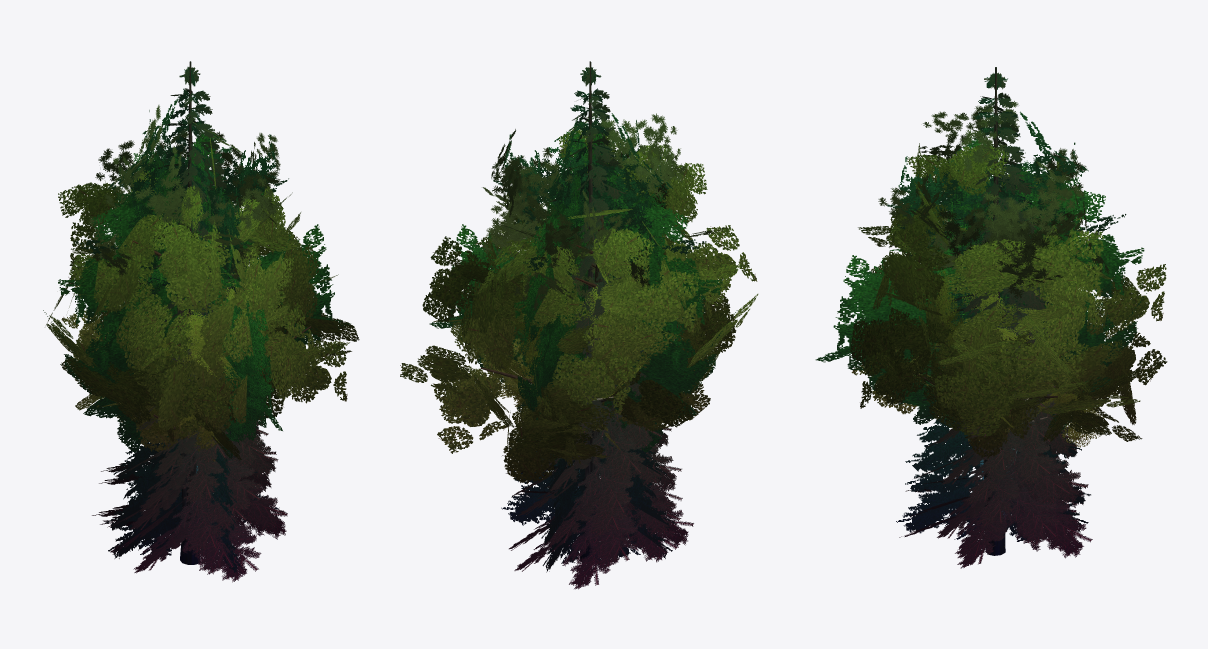
Rendered from Pflanzen.glb.
3 views of the same model, side by side, from view 1: azimuth 30°, elevation 25°; view 2: azimuth 150°, elevation 25°; view 3: azimuth 270°, elevation 25° (orthographic). The views are drawn at different scales.
Parts seen in each view (by area): view 1: Linde, Eiche, Fichte, Eiche_Fern, Kiefer, Fichte_Fern, Kiefer_Fern, Linde_Fern, Birke, Birke_Fern; view 2: Eiche, Linde, Fichte, Kiefer, Eiche_Fern, Fichte_Fern, Kiefer_Fern, Linde_Fern, Birke; view 3: Eiche, Fichte, Linde, Kiefer, Eiche_Fern, Fichte_Fern, Kiefer_Fern, Linde_Fern, Birke.
Boxes of the visible parts, <box> form: Linde: <box>58,138,331,452</box>; Eiche: <box>46,212,359,564</box>; Fichte: <box>92,62,287,582</box>; Eiche_Fern: <box>43,191,350,553</box>; Kiefer: <box>88,105,292,516</box>; Fichte_Fern: <box>105,61,279,572</box>; Kiefer_Fern: <box>74,98,288,509</box>; Linde_Fern: <box>75,132,309,458</box>; Birke: <box>90,272,241,444</box>; Birke_Fern: <box>119,260,246,472</box>; Eiche: <box>400,215,758,562</box>; Linde: <box>449,126,736,553</box>; Fichte: <box>502,62,693,589</box>; Kiefer: <box>482,112,726,514</box>; Eiche_Fern: <box>429,215,737,553</box>; Fichte_Fern: <box>501,61,674,572</box>; Kiefer_Fern: <box>491,113,706,488</box>; Linde_Fern: <box>466,131,705,417</box>; Birke: <box>485,248,657,507</box>; Eiche: <box>850,213,1167,555</box>; Fichte: <box>899,67,1092,568</box>; Linde: <box>873,143,1136,540</box>; Kiefer: <box>878,101,1109,298</box>; Eiche_Fern: <box>815,213,1160,545</box>; Fichte_Fern: <box>896,67,1090,542</box>; Kiefer_Fern: <box>887,111,1126,308</box>; Linde_Fern: <box>856,139,1125,539</box>; Birke: <box>922,253,1106,516</box>.
Size of the model in its own units: 16.28 by 22.21 by 16.28.
Materials: 16 (16 with a texture image).
